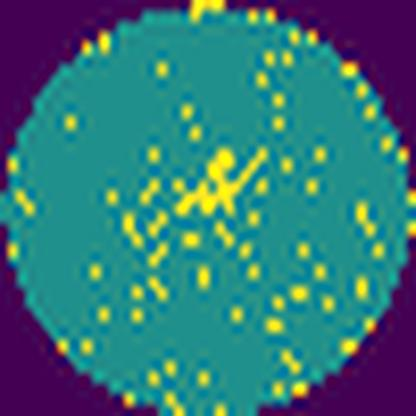Center: (172, 142, 268, 223)
